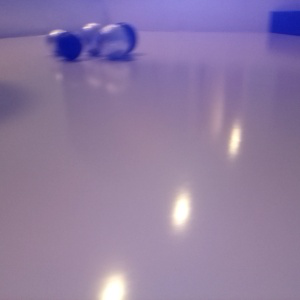alive_ball: (97, 24, 131, 59), (79, 22, 111, 56), (44, 29, 71, 55)
dead_ball: (108, 22, 138, 55), (54, 32, 83, 62)
